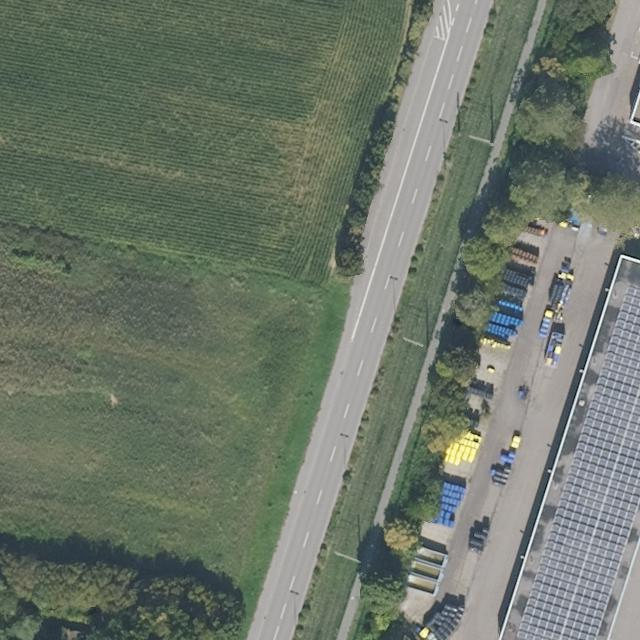PV: (510, 284, 637, 639)
